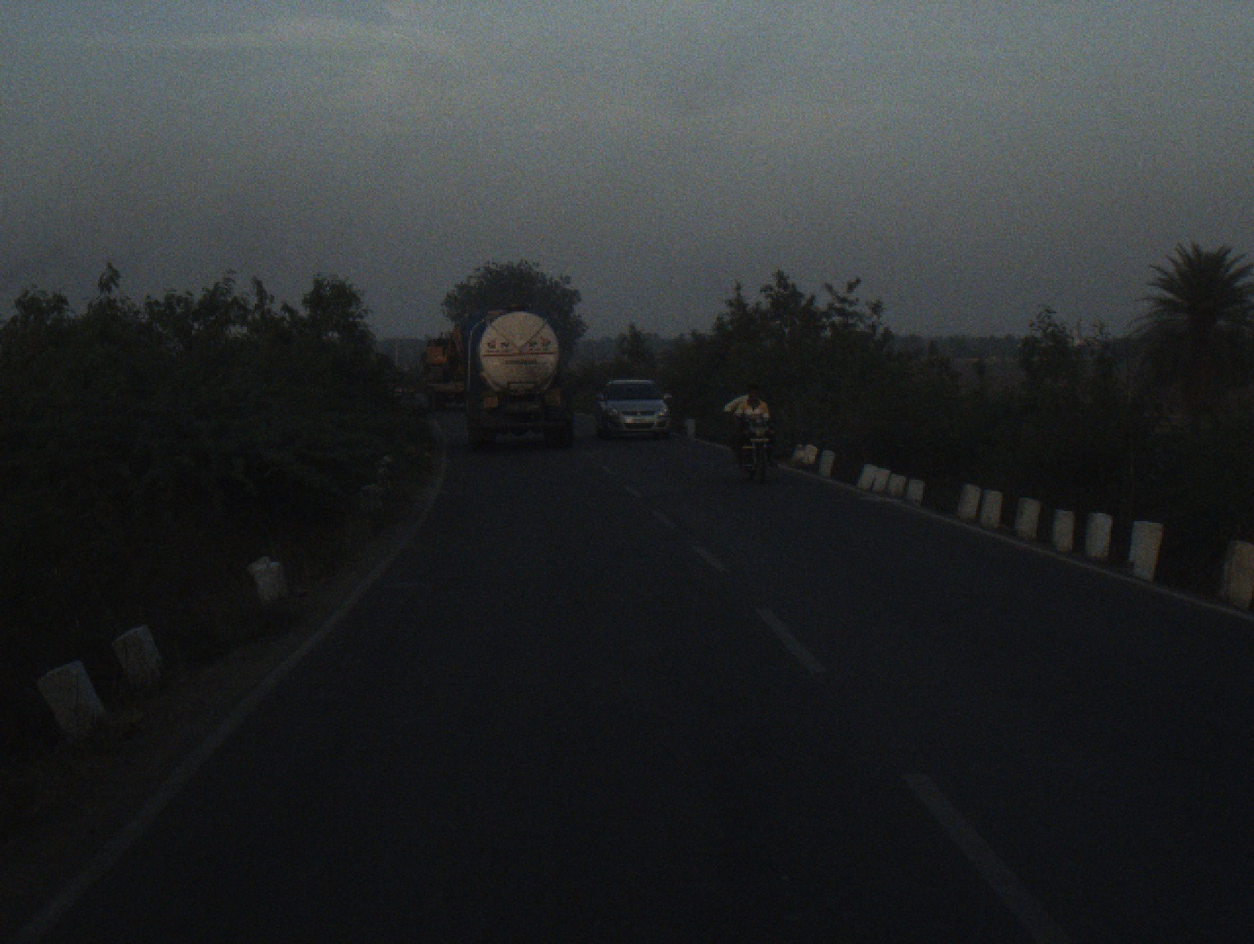car: (595, 378, 676, 441)
motorcycle: (736, 411, 782, 486)
rider: (736, 386, 780, 473), (723, 386, 756, 455)
truck: (459, 305, 579, 453)
vehicle fallback: (414, 321, 472, 413)
